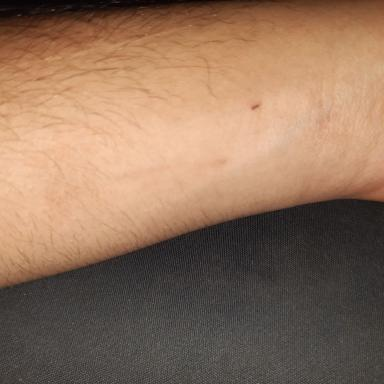normal skin: (2, 0, 383, 286)
